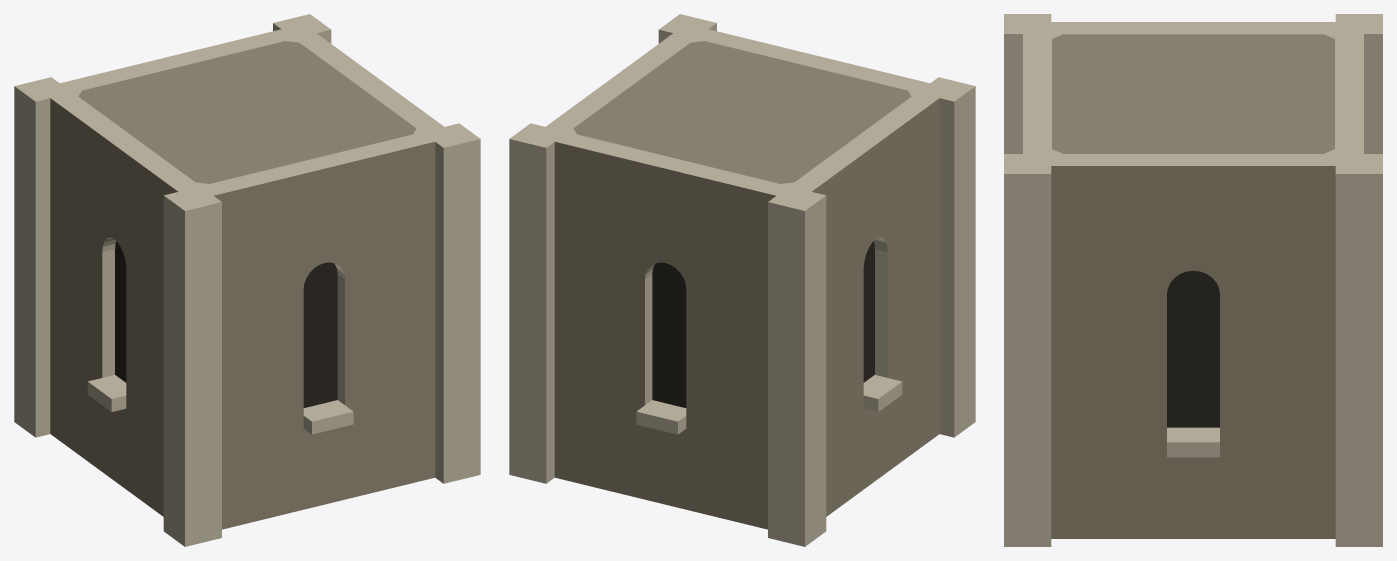
The model's file is towerSquareMidWindows.glb.
3 views of the same model, side by side, from view 1: azimuth 30°, elevation 25°; view 2: azimuth 150°, elevation 25°; view 3: azimuth 270°, elevation 25° (orthographic). The views are drawn at different scales.
Visible parts, largest first — view 1: mesh_1, mesh_0, mesh_2; view 2: mesh_1, mesh_0, mesh_2; view 3: mesh_1, mesh_0, mesh_2.
Boxes of the visible parts, x1=… form: mesh_1: x1=50, y1=41, x2=435, y2=529; mesh_0: x1=14, y1=14, x2=480, y2=546; mesh_2: x1=115, y1=241, x2=337, y2=407; mesh_1: x1=554, y1=41, x2=939, y2=529; mesh_0: x1=509, y1=14, x2=975, y2=546; mesh_2: x1=652, y1=241, x2=874, y2=407; mesh_1: x1=1051, y1=34, x2=1335, y2=538; mesh_0: x1=1004, y1=14, x2=1382, y2=546; mesh_2: x1=1167, y1=270, x2=1219, y2=427.
Bounding box in the file's own units: 9.3 × 10.1 × 9.3.
